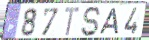4: (123, 6, 139, 36)
7: (42, 7, 61, 38)
8: (20, 7, 39, 38)
A: (98, 8, 120, 36)
S: (80, 5, 103, 38)
T: (64, 6, 82, 38)
